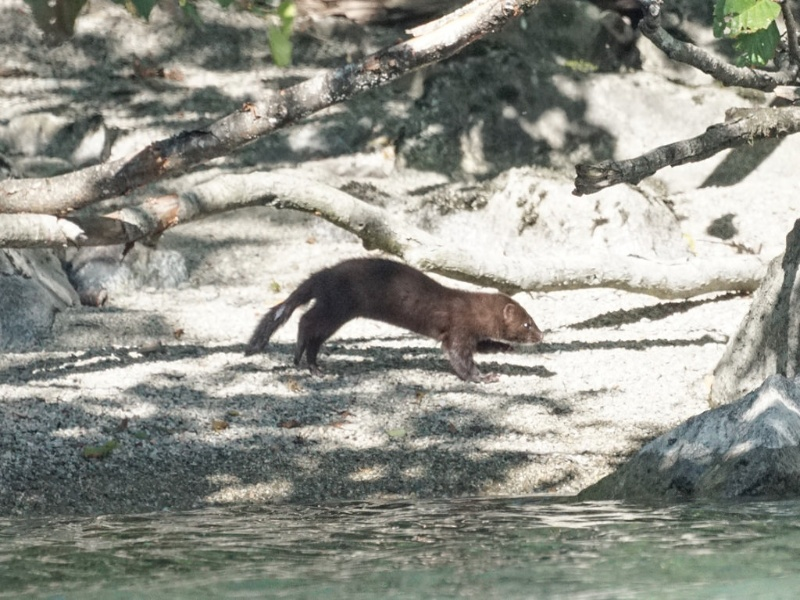minkish: (243, 251, 545, 391)
